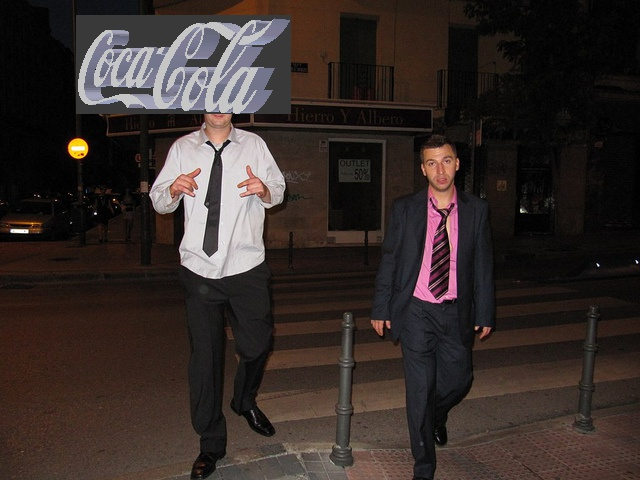coca: (76, 15, 292, 113)
